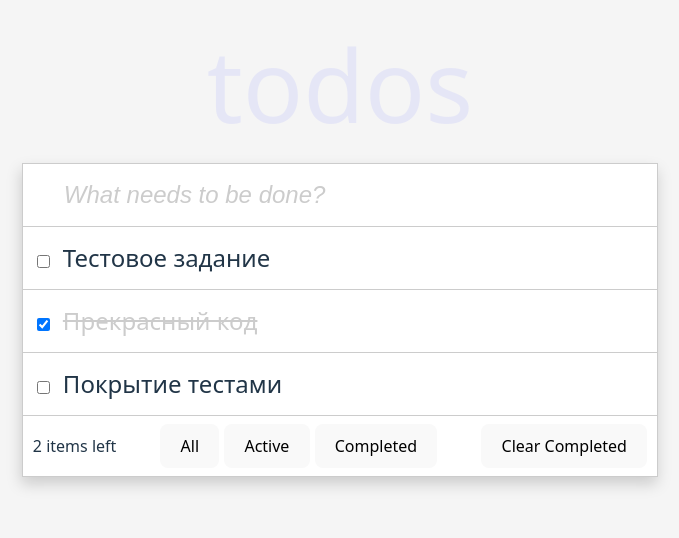
it: App Component › добавляет новую задачу
Expected: the text "Тестовое задание" is shown, [63,240,270,276]
In the field with placeholder "What needs to be done?": (289, 195) [57,176,521,214], type "Новая задача"
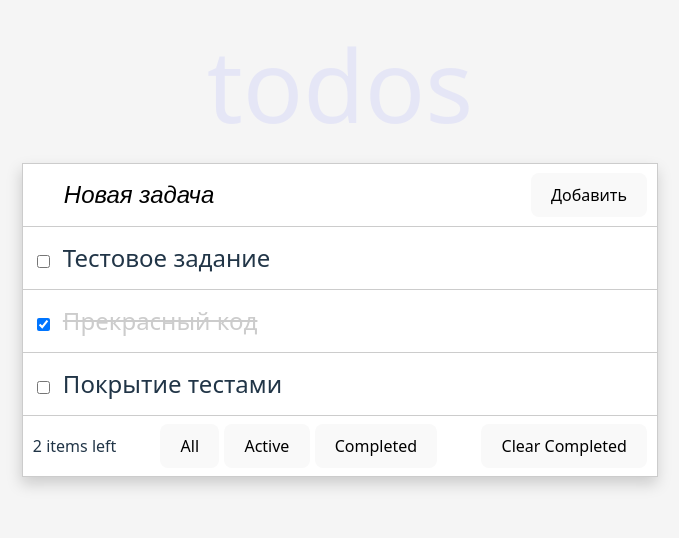
Click the button "Добавить": (589, 195) [531,173,647,217]
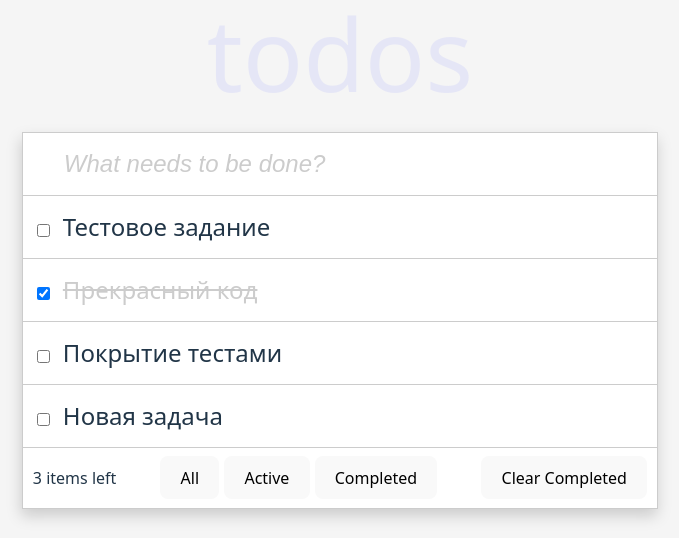
Now the text "Новая задача" is shown, box [63,398,223,434]
Now the field with placeholder "What needs to be done?" is empty, box [57,144,521,182]
